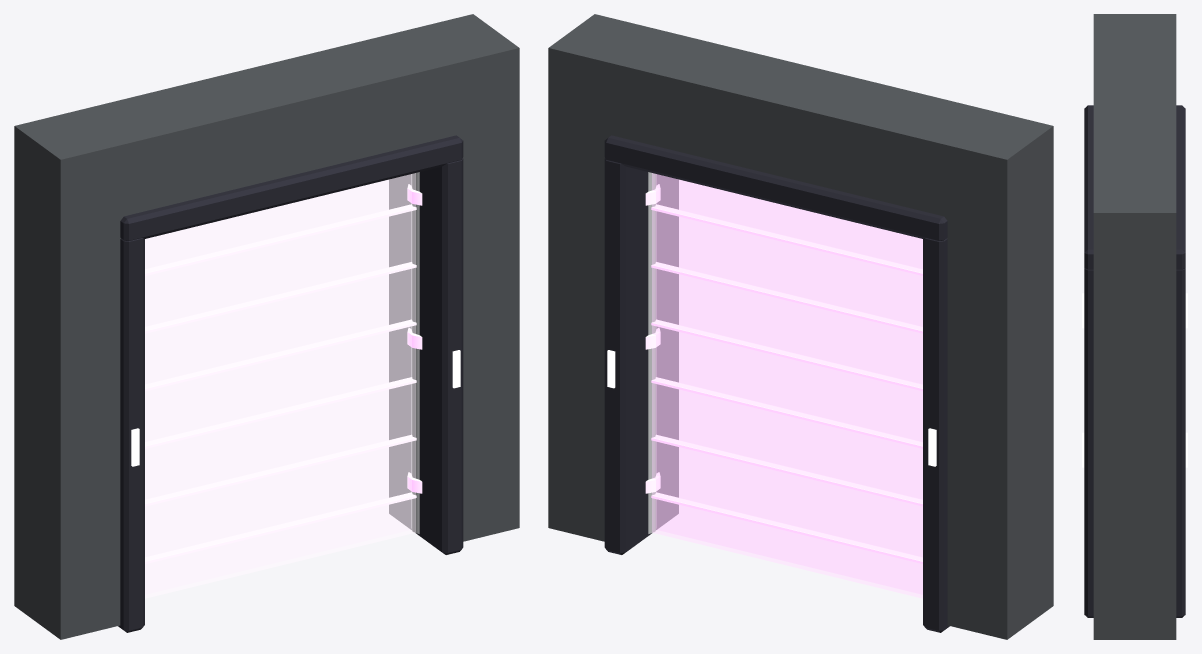
Rendered from door_an_field.glb.
3 renders of one model, left to right at view 1: azimuth 30°, elevation 25°; view 2: azimuth 150°, elevation 25°; view 3: azimuth 270°, elevation 25°, orthographic. The views are drawn at different scales.
Parts seen in each view (by area): view 1: frame, field; view 2: frame, field; view 3: frame.
Boxes of the visible parts, box(x1,y1,x2,y2) form: frame: box(14, 14, 519, 639); field: box(145, 173, 416, 598); frame: box(548, 14, 1053, 639); field: box(651, 173, 922, 598); frame: box(1082, 14, 1187, 639).
Bounding box in the file's own units: 4 × 4.05 × 0.9.
